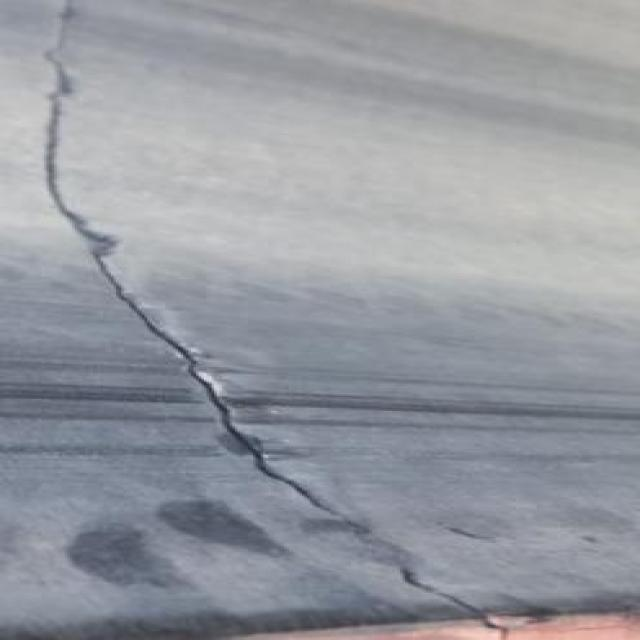Tear: (39, 1, 498, 622)
